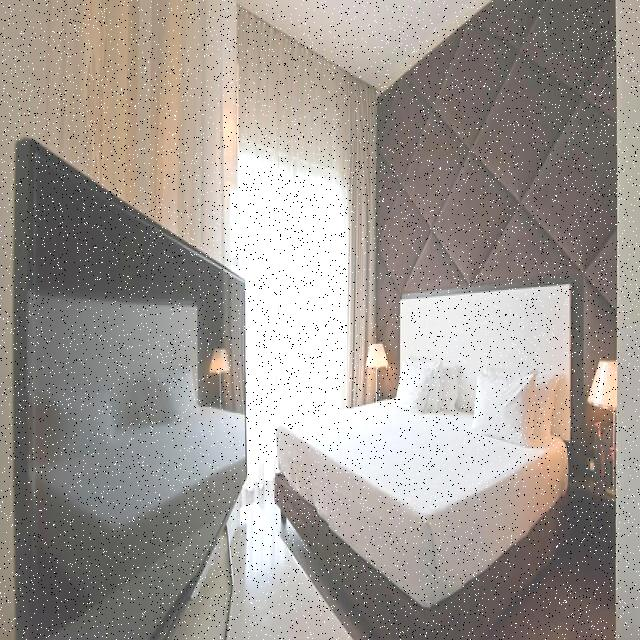bed: (276, 352, 572, 595)
